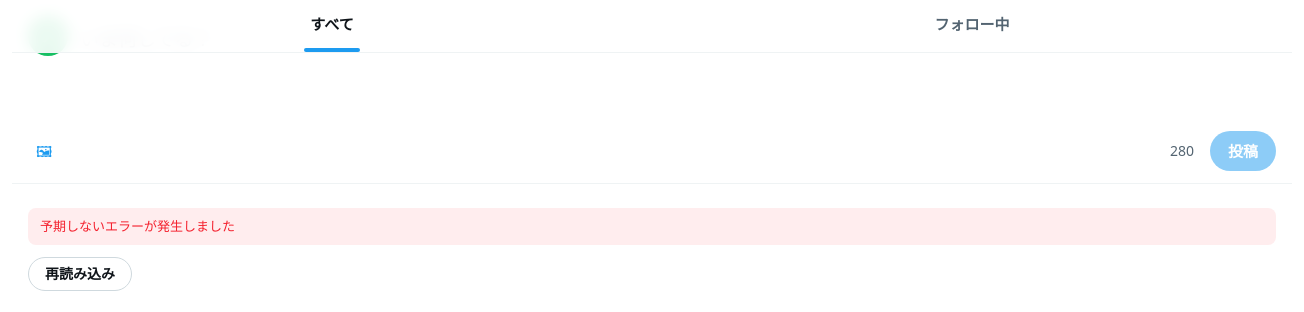
HomePage › 同値分割（エラー）: alert と再読み込みボタンを出し、押すと取り直す
The width and height of the screenshot is (1304, 312).
Check: the message "予期しないエラーが発生しました" is shown, box [28, 208, 1276, 245]
Click the button "再読み込み": (80, 274) [28, 257, 132, 291]
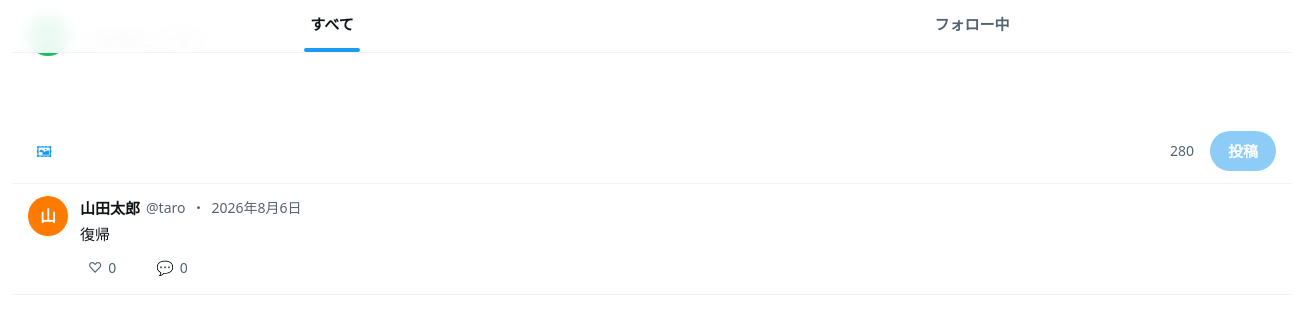
Check: the text "復帰" is shown, box [80, 224, 110, 244]
Check: the message "予期しないエラーが発生しました" is gone
